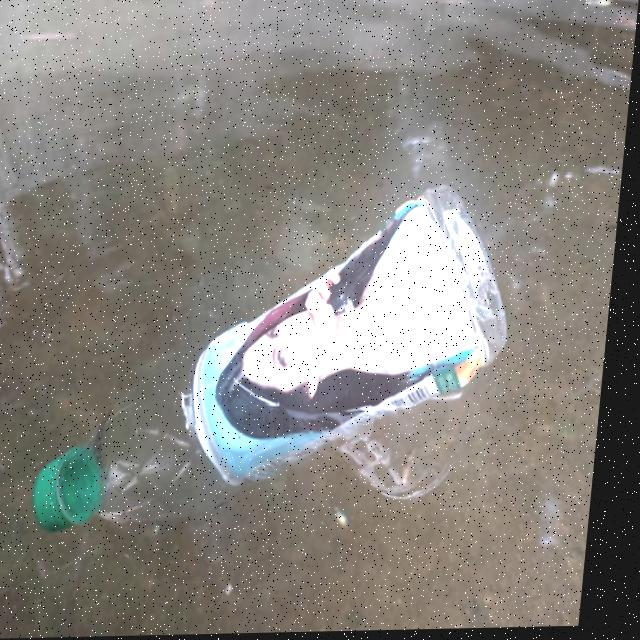waterbottle: (64, 168, 543, 544)
